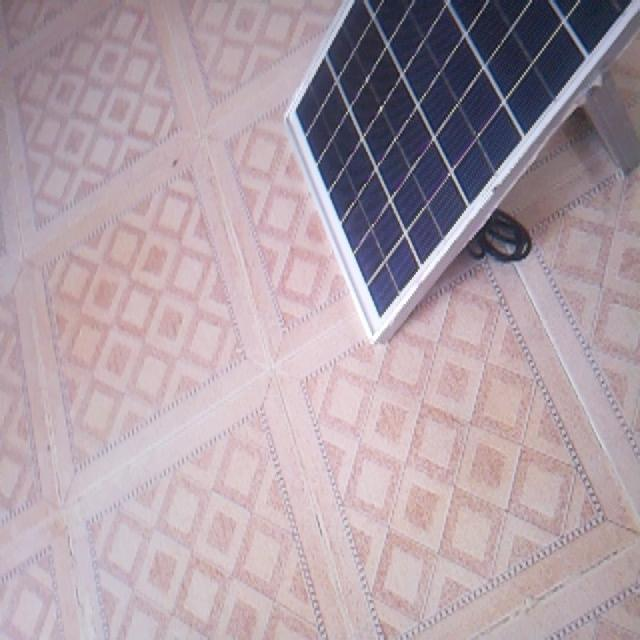Normal Solar Panel: (288, 1, 640, 341)
